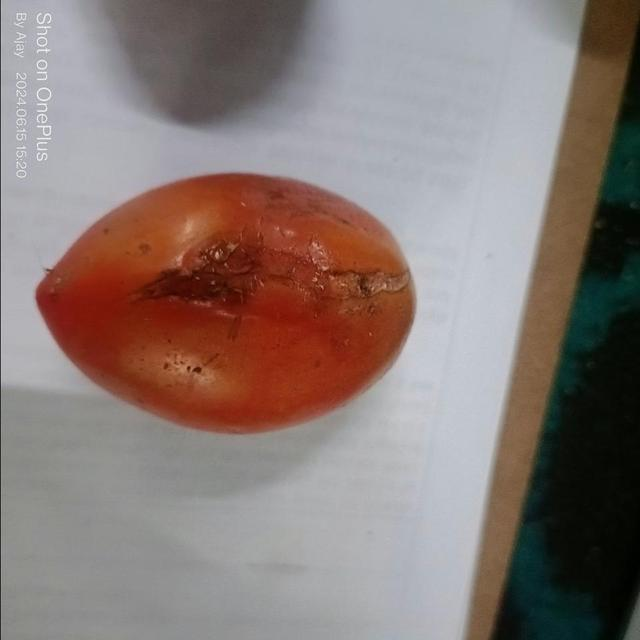Cracking Fruit: (39, 91, 212, 309)
